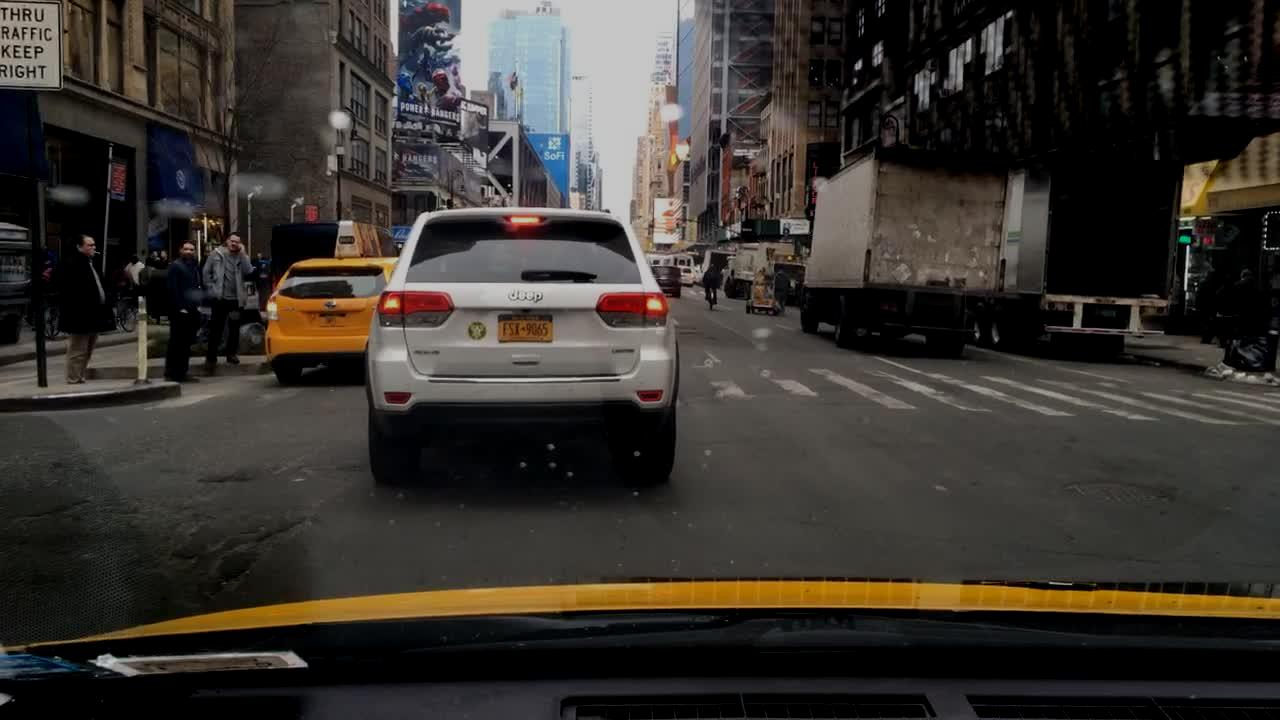jeep: (505, 284, 547, 308)
